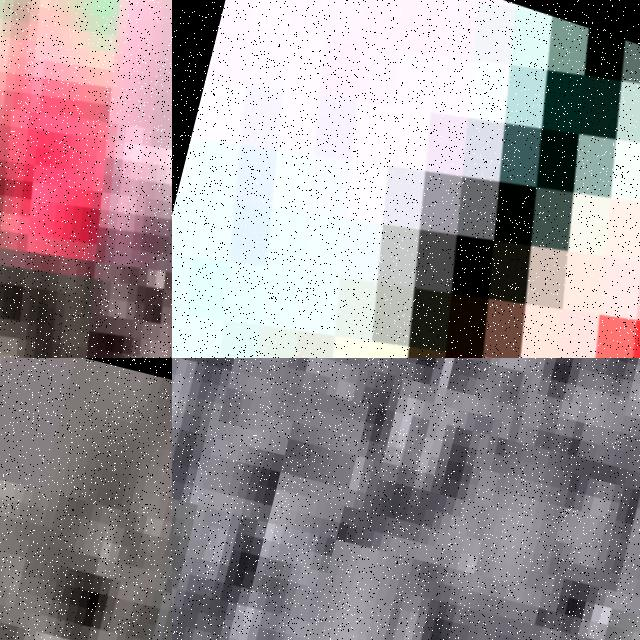0: (0, 0, 172, 358)
drone: (172, 0, 640, 358)
